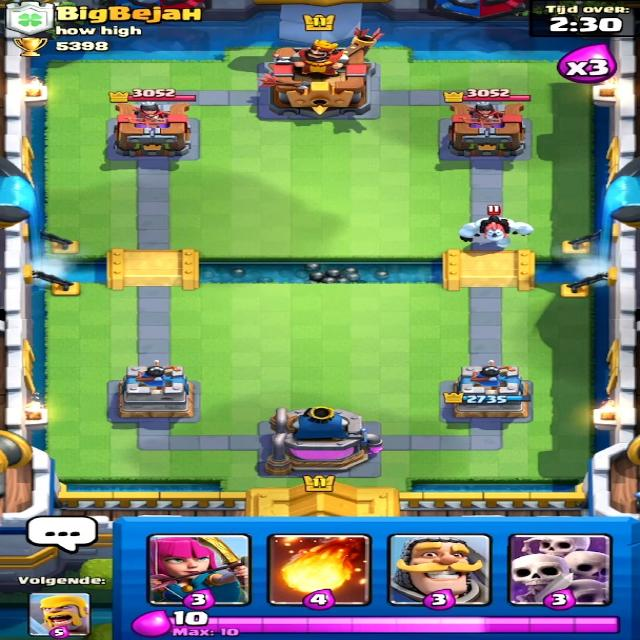Enemy_Ice_Golem_Troop: (458, 213, 540, 256)
Fireball_Card: (271, 534, 369, 605)
